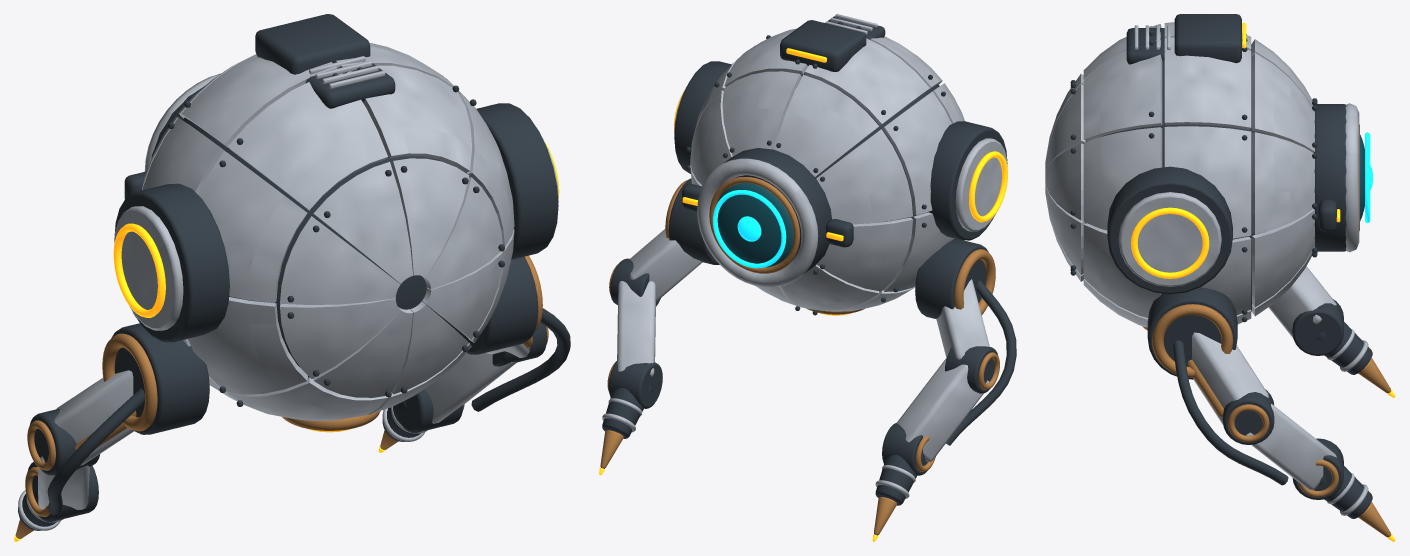
File: rep-1.glb
3 renders of one model, left to right at view 1: azimuth 30°, elevation 25°; view 2: azimuth 150°, elevation 25°; view 3: azimuth 270°, elevation 25°, orthographic. The views are drawn at different scales.
Parts seen in each view (by area): view 1: REP-1 picture-guided shell and tools; view 2: REP-1 picture-guided shell and tools; view 3: REP-1 picture-guided shell and tools.
Part boxes in pixels (box(x1,y1,x2,y2)): REP-1 picture-guided shell and tools: box(14, 14, 570, 541); REP-1 picture-guided shell and tools: box(599, 14, 1016, 541); REP-1 picture-guided shell and tools: box(1045, 14, 1395, 541).
Size of the model in its own units: 2.13 by 2.18 by 1.56.
Materials: 6 (1 with a texture image).
